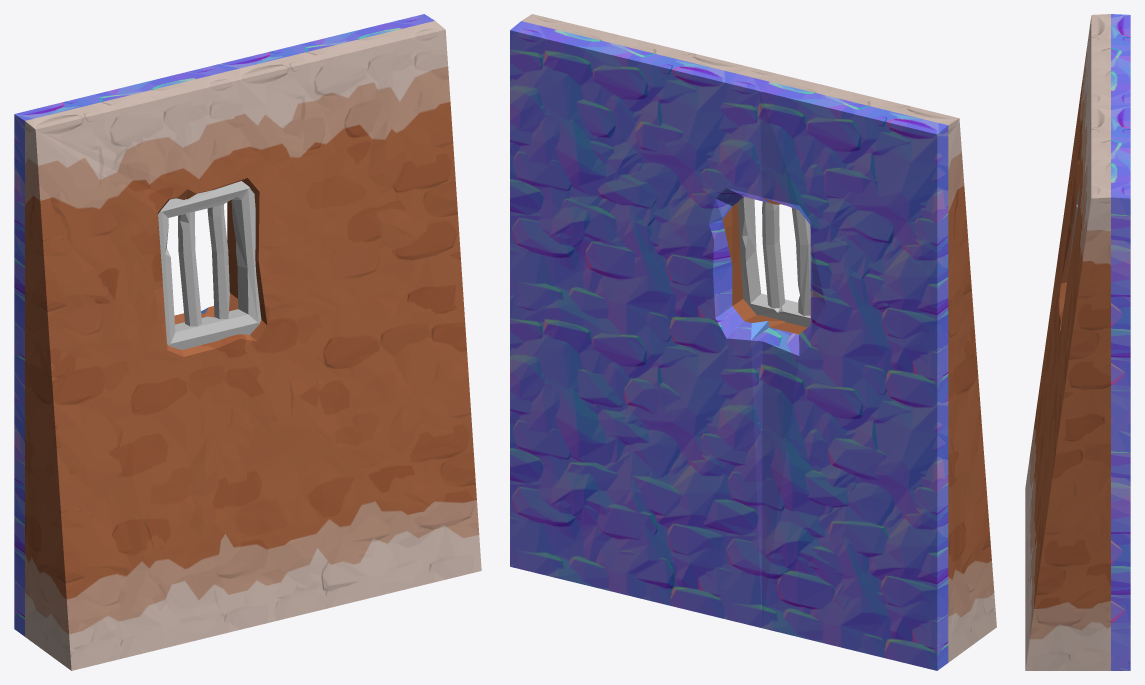
File: SM_Bld_Wall_Top_Window_01.fbx
3 views of the same model, side by side, from view 1: azimuth 30°, elevation 25°; view 2: azimuth 150°, elevation 25°; view 3: azimuth 270°, elevation 25° (orthographic). The views are drawn at different scales.
Visible parts, largest first — view 1: SM_Bld_Wall_Top_Window_01; view 2: SM_Bld_Wall_Top_Window_01; view 3: SM_Bld_Wall_Top_Window_01.
Part boxes in pixels (x1,y1,x2,y2): SM_Bld_Wall_Top_Window_01: (14, 14, 481, 670); SM_Bld_Wall_Top_Window_01: (510, 14, 996, 670); SM_Bld_Wall_Top_Window_01: (1025, 14, 1130, 670).
Bounding box in the file's own units: 250 × 301 × 60.45.
